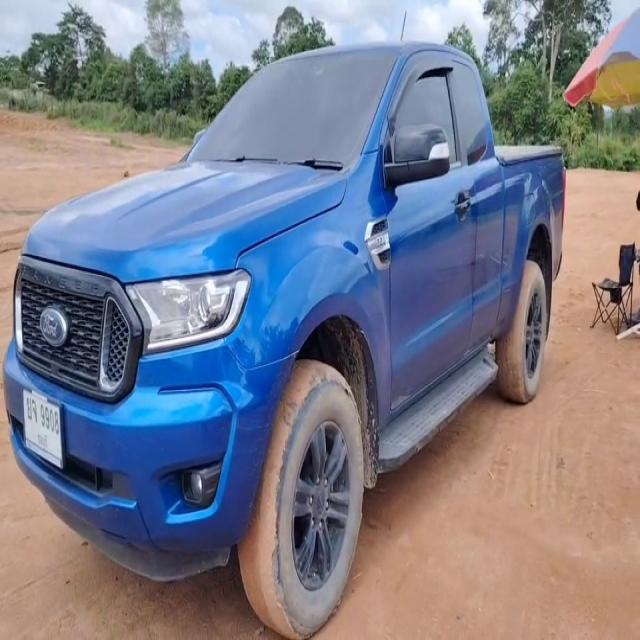Digit: (40, 404, 60, 436)
Licenseplate: (23, 389, 63, 469)
Provincename: (36, 430, 50, 452)
Thaichar: (25, 396, 39, 424)
